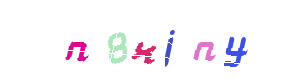8: (78, 0, 158, 80)
J: (141, 0, 221, 80)
N: (72, 0, 152, 80), (169, 0, 249, 80)
X: (109, 0, 189, 80)
Y: (176, 0, 256, 80)
